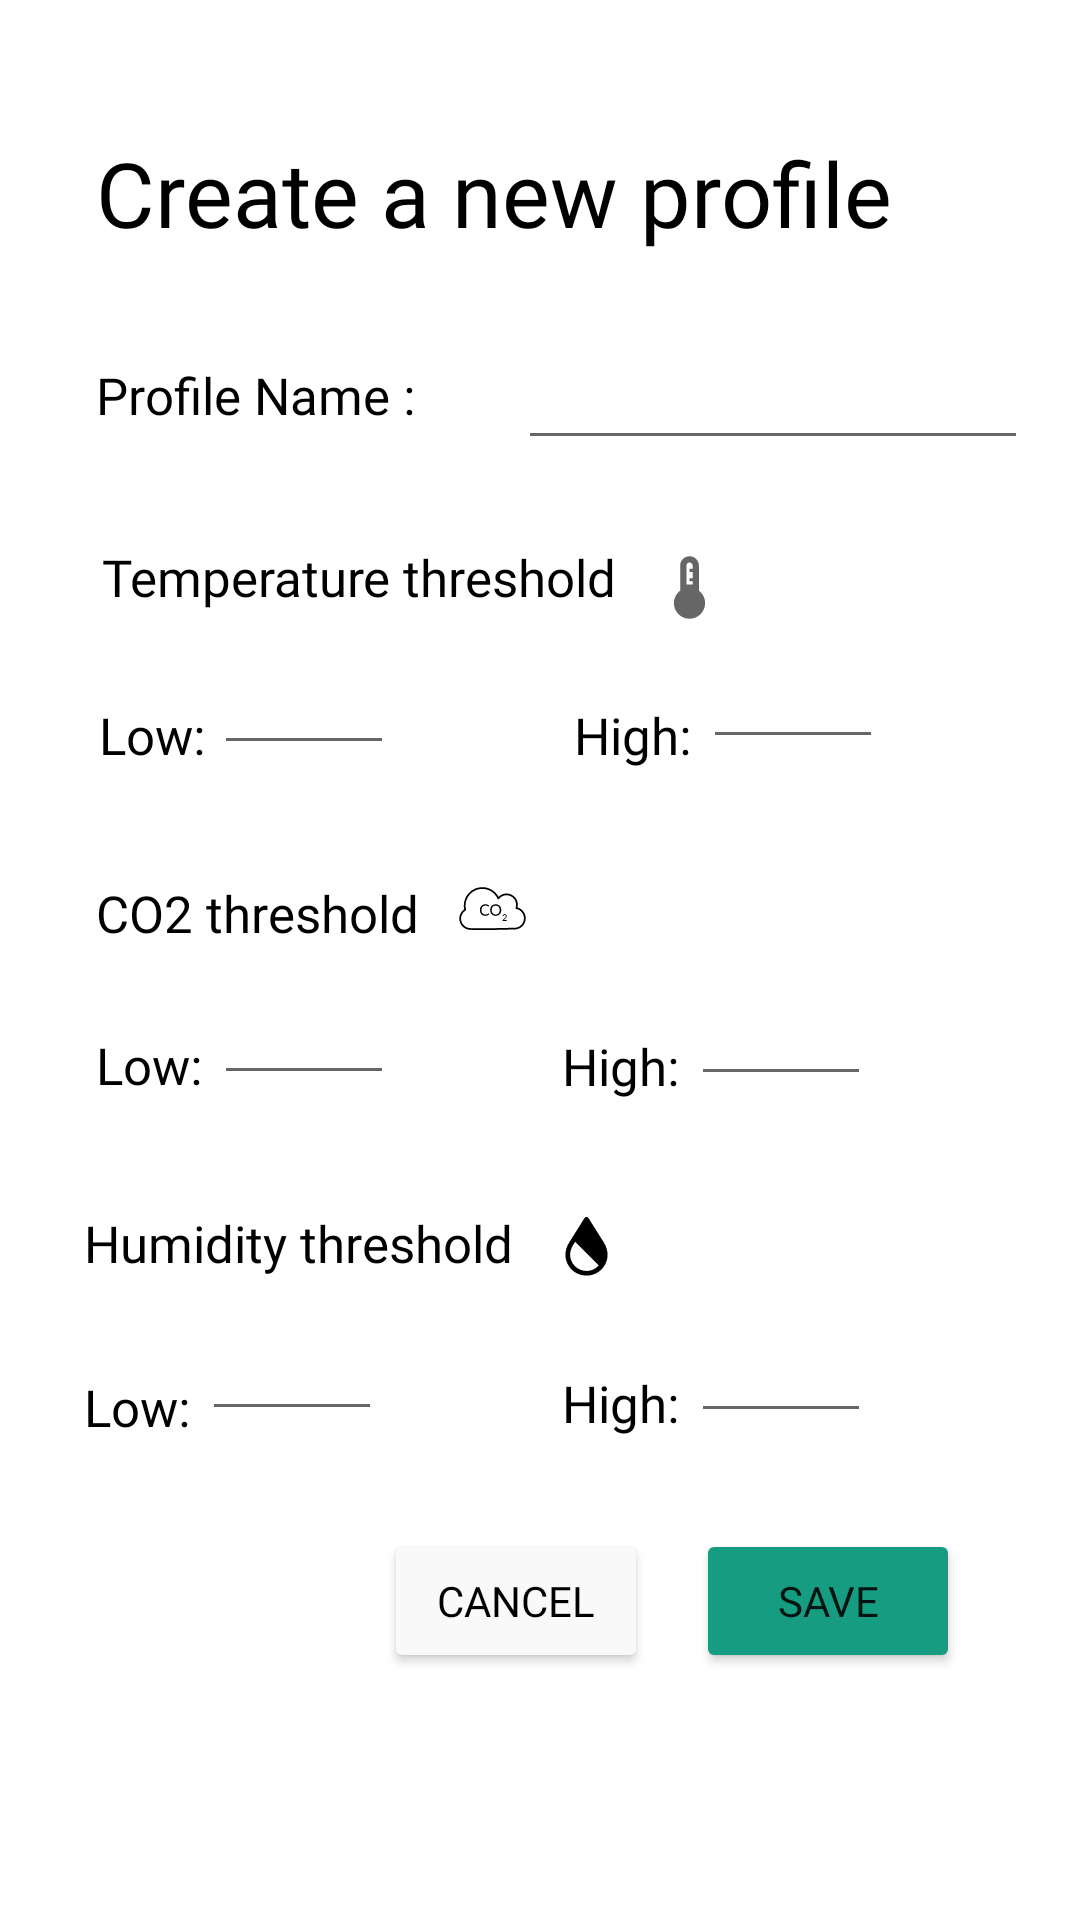

Icon bounding boxes for this 1080 × 1920 phone screenshot, format [x1,y1,x2,y2]:
iwwa co: [459,887,526,930]
thermostat: [674,556,705,619]
